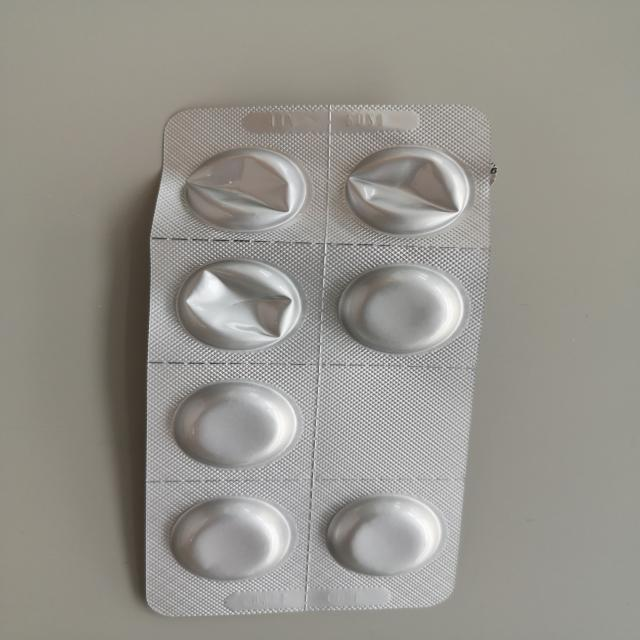Empty: (339, 142, 474, 238), (174, 254, 304, 352), (179, 145, 310, 233)
Pill: (333, 260, 470, 356), (169, 378, 301, 473), (163, 492, 296, 585), (324, 491, 446, 578)
